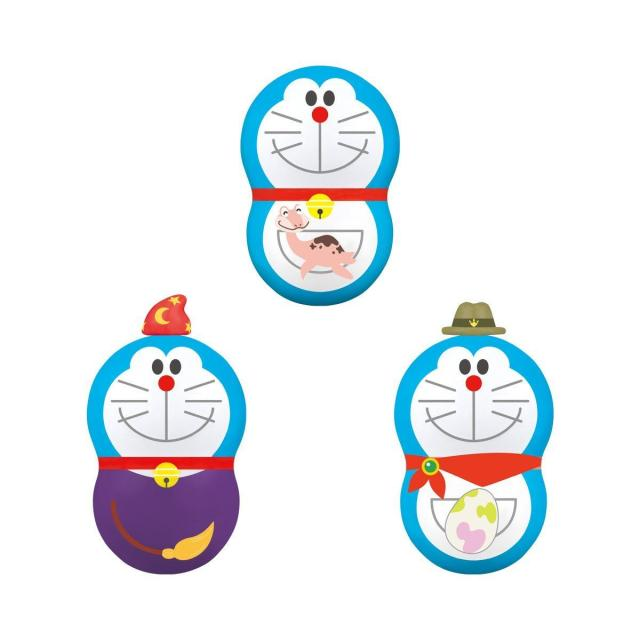doraemon: (227, 54, 435, 238), (382, 320, 564, 494), (82, 321, 256, 494)
